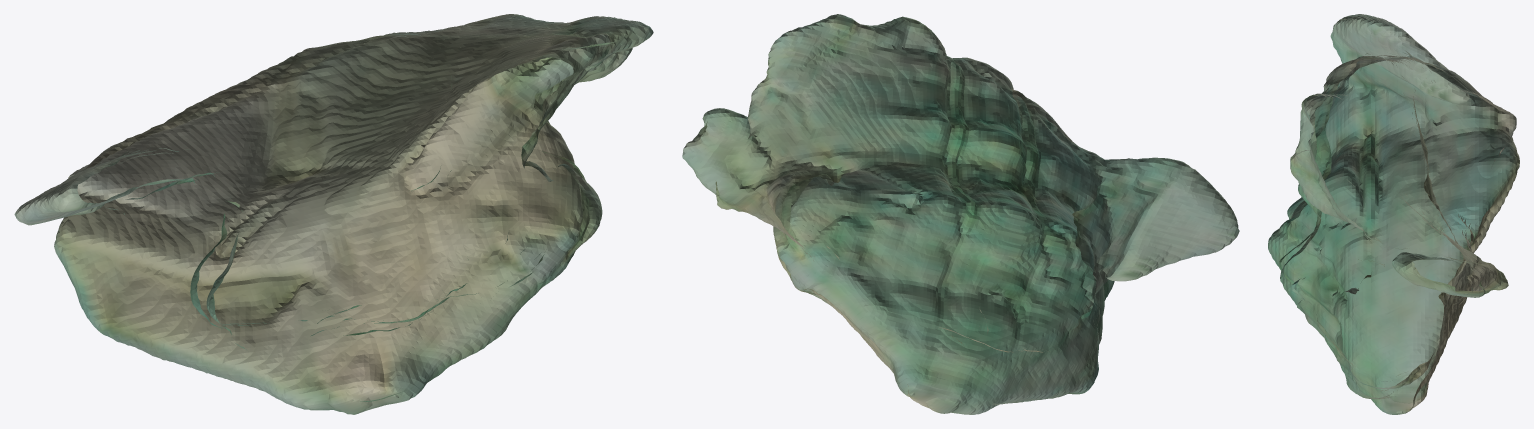
3 views of the same model, side by side, from view 1: azimuth 30°, elevation 25°; view 2: azimuth 150°, elevation 25°; view 3: azimuth 270°, elevation 25° (orthographic). The views are drawn at different scales.
Parts seen in each view (by area): view 1: geometry_0; view 2: geometry_0; view 3: geometry_0.
Part boxes in pixels (x1,y1,x2,y2): geometry_0: [14, 14, 653, 414]; geometry_0: [682, 14, 1239, 414]; geometry_0: [1268, 14, 1519, 414].
Bounding box in the file's own units: 1.6 × 0.9891 × 0.6683.
